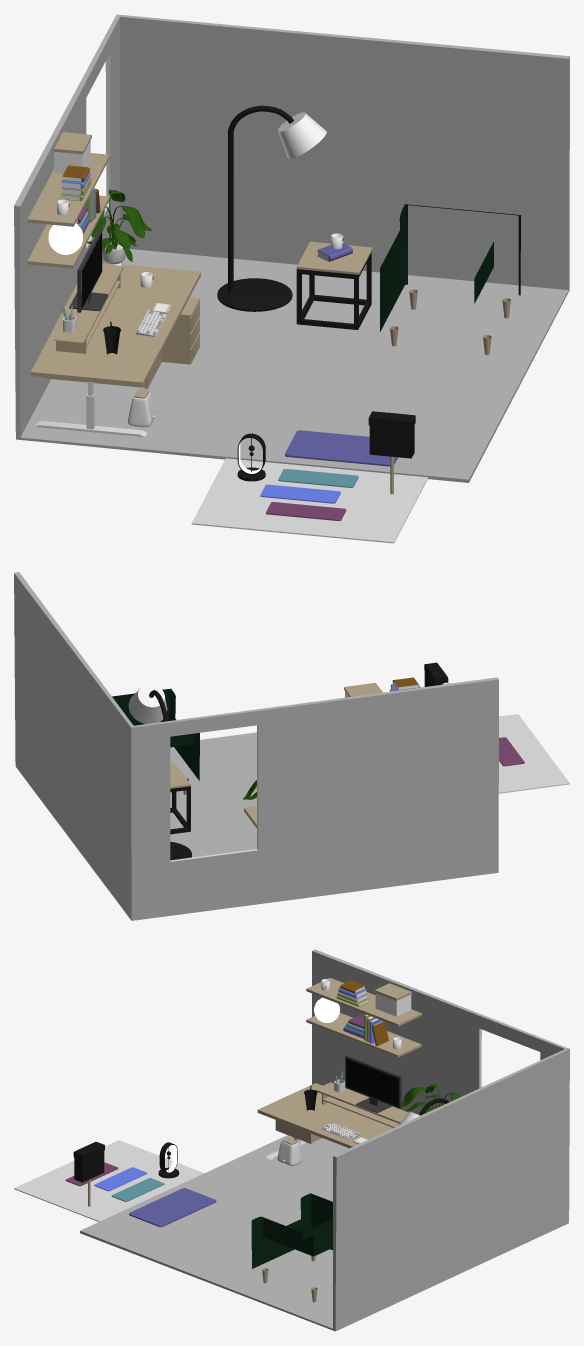
The model's file is awwwards-clone.glb.
3 views of the same model, one above another, from view 1: azimuth 30°, elevation 25°; view 2: azimuth 150°, elevation 25°; view 3: azimuth 270°, elevation 25° (orthographic). The views are drawn at different scales.
Visible parts, largest first — view 1: Cube.003, Plane.001, TableTop, Cylinder.002, Cube.004, Cube.007, Plane, Cube.006, ShelfTop, TableTop.001, TableTop.002, shelfBottom (+11 smaller); view 2: Cube.003, Plane.001, Cylinder.002, Cube.004, Plane, Cube.010, Cube.006; view 3: Cube.003, Plane.001, Cube.004, TableTop, Cube.007, monitoScreen, TableTop.001, ShelfTop, shelfBottom, Cube.006, box.004, monitorBase (+5 smaller).
Boxes of the visible parts, x1,y1,x2,y2 form: Cube.003: (14, 14, 569, 482); Plane.001: (191, 458, 428, 543); TableTop: (30, 262, 200, 386); Cylinder.002: (217, 105, 326, 311); Cube.004: (380, 204, 521, 331); Cube.007: (285, 430, 397, 466); Plane: (296, 252, 371, 329); Cube.006: (368, 411, 415, 494); ShelfTop: (27, 153, 109, 226); TableTop.001: (53, 264, 123, 353); TableTop.002: (296, 241, 372, 274); shelfBottom: (27, 195, 109, 268); Cube.003: (14, 572, 498, 920); Plane.001: (498, 714, 569, 793); Cylinder.002: (128, 684, 191, 860); Cube.004: (112, 688, 199, 780); Plane: (170, 786, 190, 834); Cube.010: (499, 737, 524, 766); Cube.006: (424, 662, 448, 686); Cube.003: (80, 949, 569, 1331); Plane.001: (14, 1140, 203, 1221); Cube.004: (251, 1193, 332, 1268); TableTop: (257, 1083, 392, 1148); Cube.007: (129, 1188, 216, 1227); monitoScreen: (346, 1058, 398, 1106); TableTop.001: (315, 1082, 408, 1127); ShelfTop: (306, 978, 421, 1026); shelfBottom: (306, 1013, 421, 1057); Cube.006: (73, 1141, 104, 1206); box.004: (374, 983, 411, 1016); monitorBase: (345, 1055, 401, 1112).
Size of the model in its own units: 34.35 by 13.5 by 38.81.
